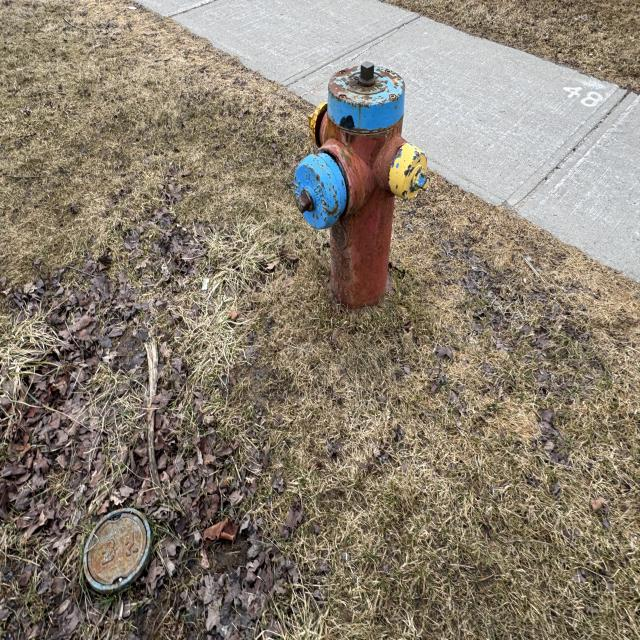Fire hydrant: (292, 61, 431, 318)
